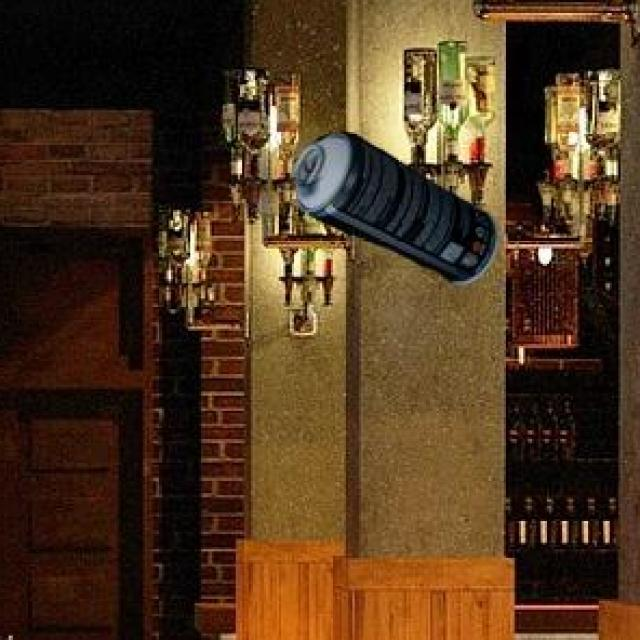logam: (297, 129, 503, 282)
